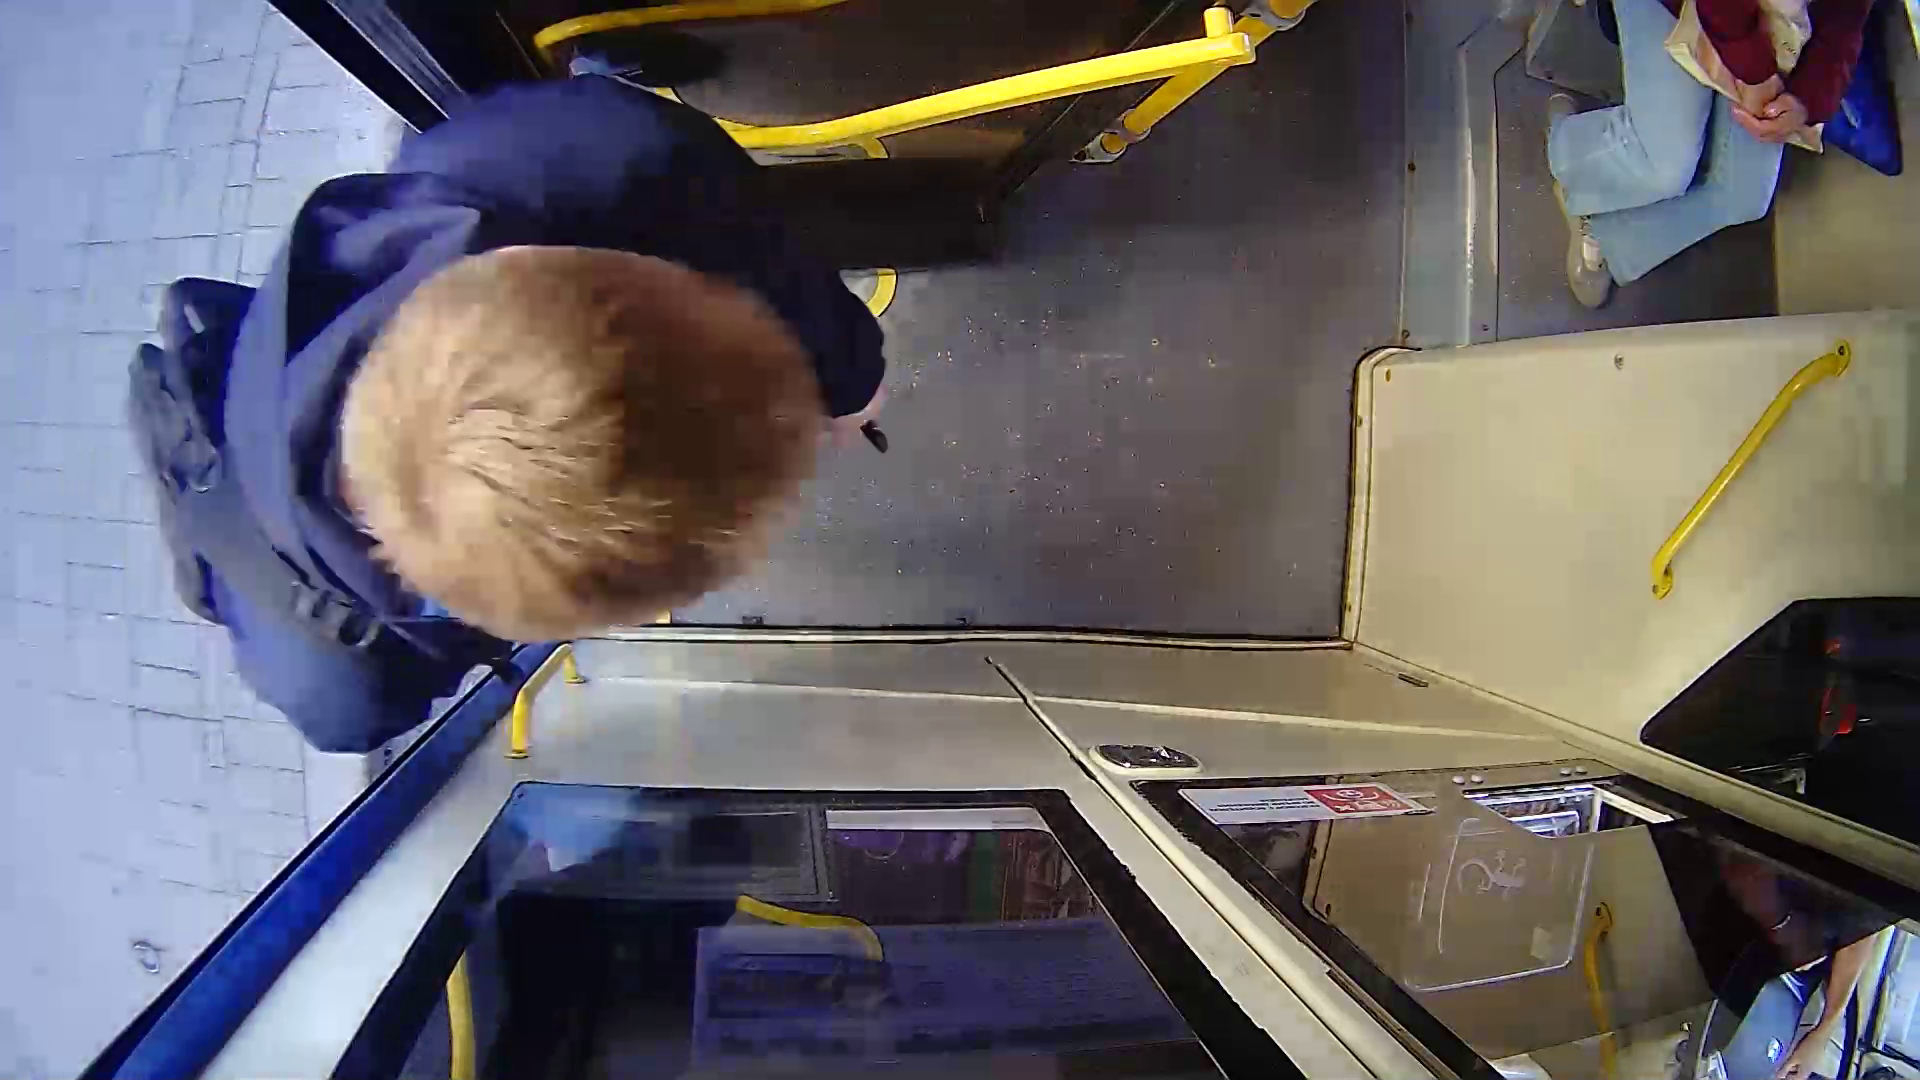person: (86, 110, 991, 704)
